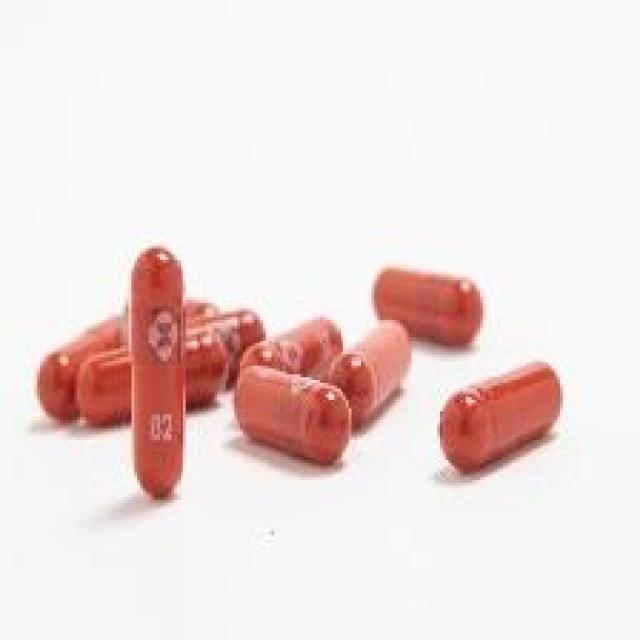Medicine: (27, 204, 566, 526)
